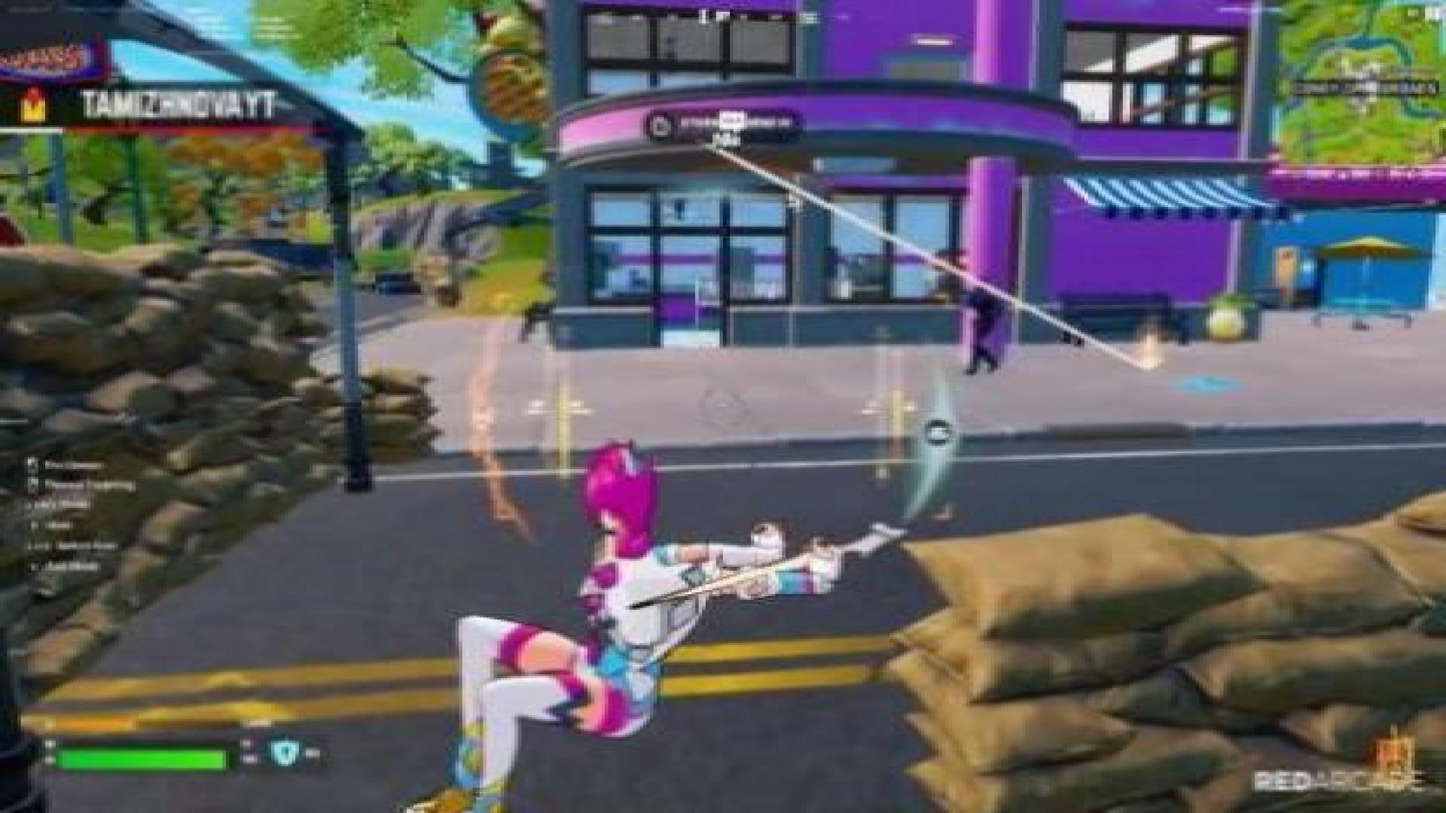player: (951, 282, 1027, 386)
